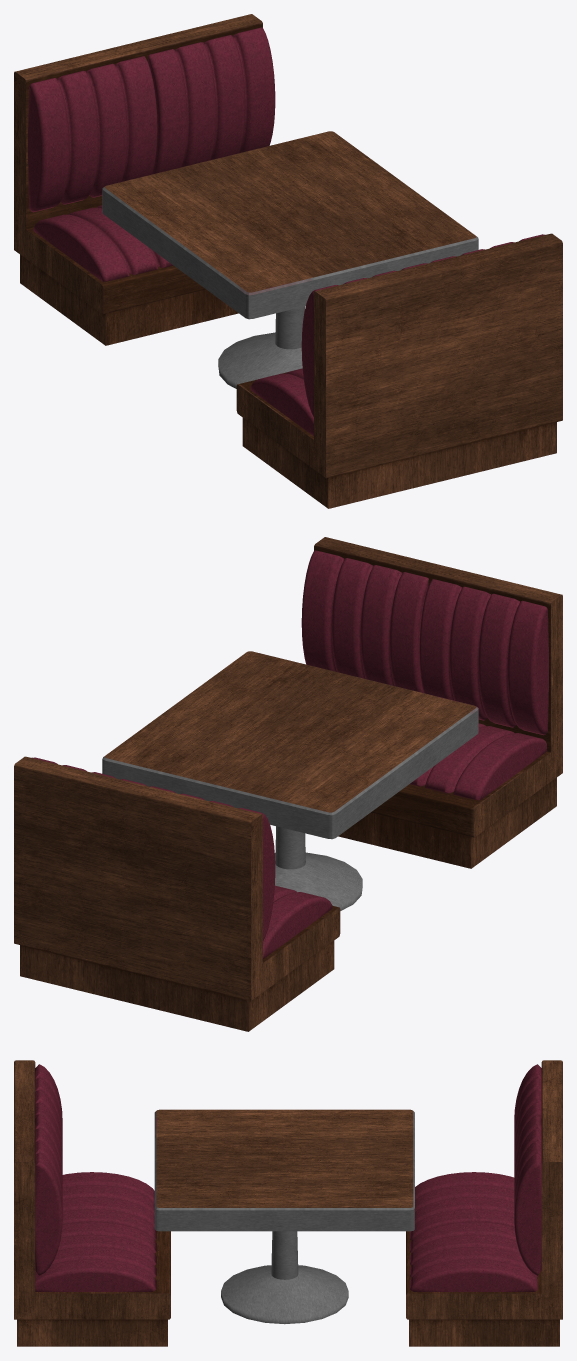
Rendered from 2k_textured_diner_booth_w_table.glb.
The picture shows the model from 3 angles, top to bottom: view 1: azimuth 30°, elevation 25°; view 2: azimuth 150°, elevation 25°; view 3: azimuth 270°, elevation 25°; orthographic projection. The views are drawn at different scales.
Parts seen in each view (by area): view 1: pCube2, pCube3, polySurface1, pCube1, polySurface2, pCylinder1, polySurface3, polySurface4; view 2: pCube1, pCube3, polySurface4, pCube2, polySurface3, pCylinder1, polySurface2, polySurface1; view 3: pCube3, pCube2, pCube1, polySurface2, polySurface3, pCylinder1, polySurface1, polySurface4.
Part boxes in pixels (x1,y1,x2,y2): pCube2: (236,233,562,508); pCube3: (102,131,478,319); polySurface1: (28,27,275,212); pCube1: (14,14,262,345); polySurface2: (33,205,173,281); pCylinder1: (218,306,304,388); polySurface3: (250,368,313,435); polySurface4: (301,234,545,417); pCube1: (14,756,340,1031); pCube3: (102,651,478,839); polySurface4: (301,550,548,735); pCube2: (314,537,562,868); polySurface3: (410,723,547,800); pCylinder1: (274,826,362,910); polySurface2: (263,885,332,958); polySurface1: (31,757,275,940); pCube3: (154,1109,414,1231); pCube2: (14,1060,170,1346); pCube1: (406,1060,562,1346); polySurface2: (409,1172,537,1291); polySurface3: (35,1172,156,1291); pCylinder1: (221,1231,348,1324); polySurface1: (514,1064,541,1275); polySurface4: (35,1064,62,1275).
Size of the model in its own units: 0.0724 by 0.0619 by 0.1651.
1 material, 1 textured.
